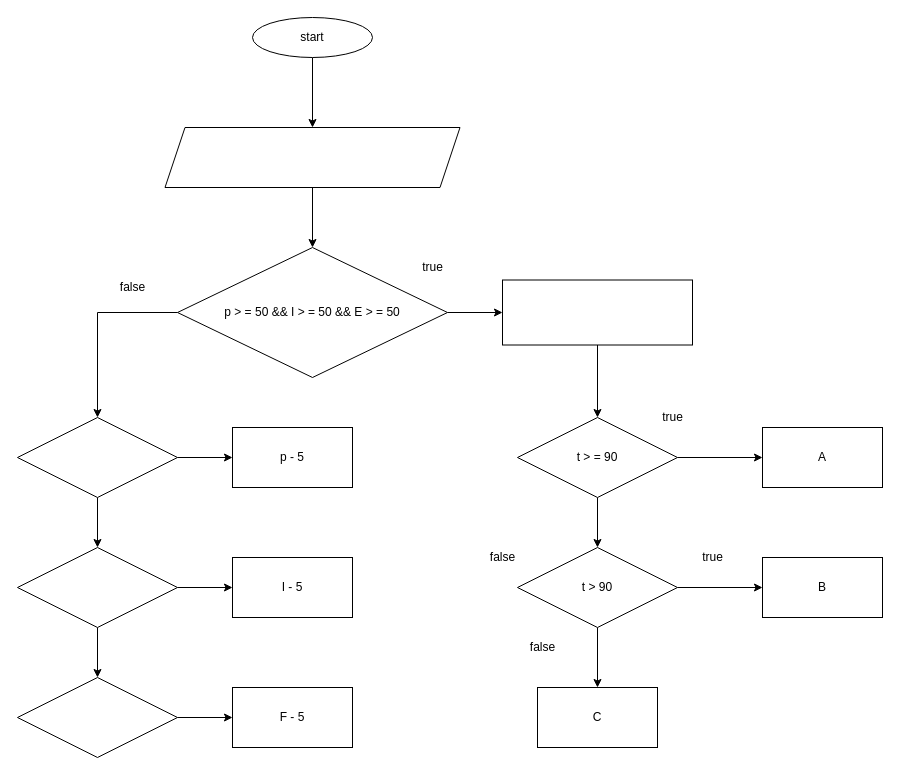
Some shapes in this 900 by 775 pixel diagram are drawn without their labels. The shapes that lost their labels are listed below. From the top down, each one's centre as x and y in pixels, then its label:
At (x=312, y=157): "project , internal, external".
At (x=597, y=312): "(P * 70) / 100 + (I * 10 ) / 100 +( E * 20 ) / 100".
At (x=97, y=457): "p < 50".
At (x=97, y=587): "I < 50".
At (x=97, y=717): "E < 50".
